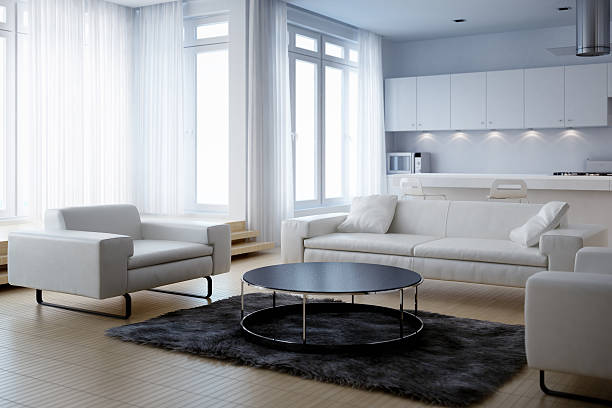chair: (6, 202, 232, 320), (522, 245, 612, 403)
sofa: (276, 192, 606, 293)
table: (239, 261, 424, 354)
